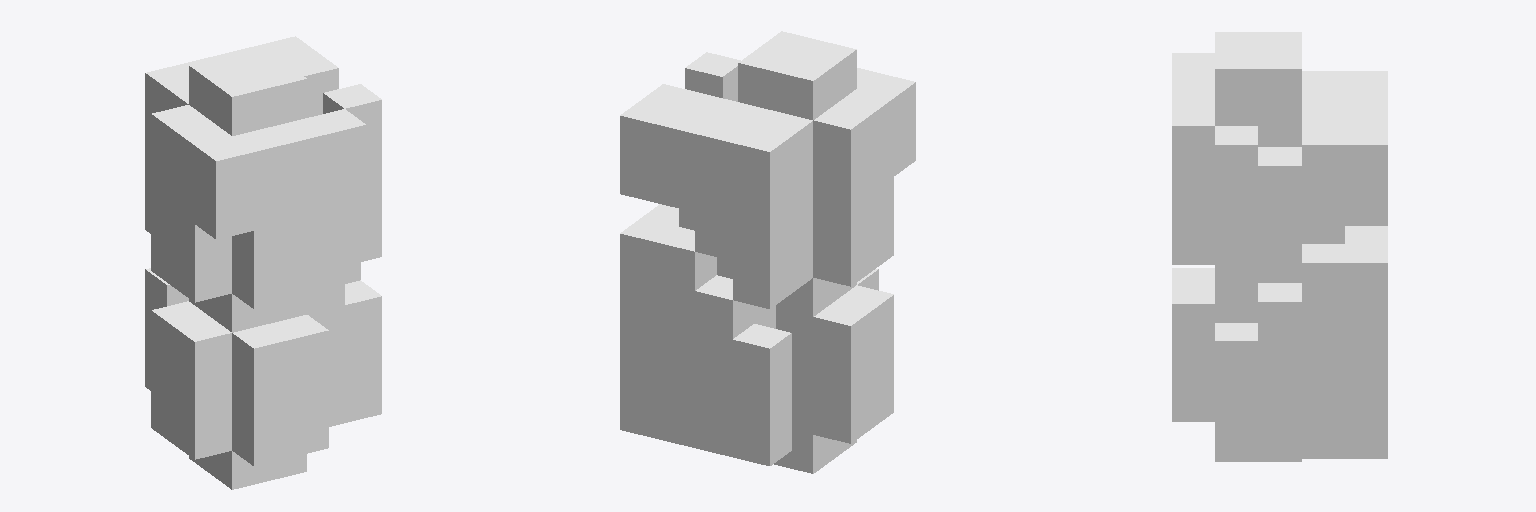
The model's file is Mecha01_left_biceps.obj.
The picture shows the model from 3 angles: view 1: azimuth 30°, elevation 25°; view 2: azimuth 150°, elevation 25°; view 3: azimuth 270°, elevation 25°; orthographic projection.
Visible parts, largest first — view 1: object 1; view 2: object 1; view 3: object 1.
Boxes of the visible parts, x1=… form: object 1: x1=145, y1=36, x2=381, y2=489; object 1: x1=620, y1=31, x2=915, y2=473; object 1: x1=1172, y1=32, x2=1387, y2=461.
Bounding box in the file's own units: 0.5 × 1 × 0.5.